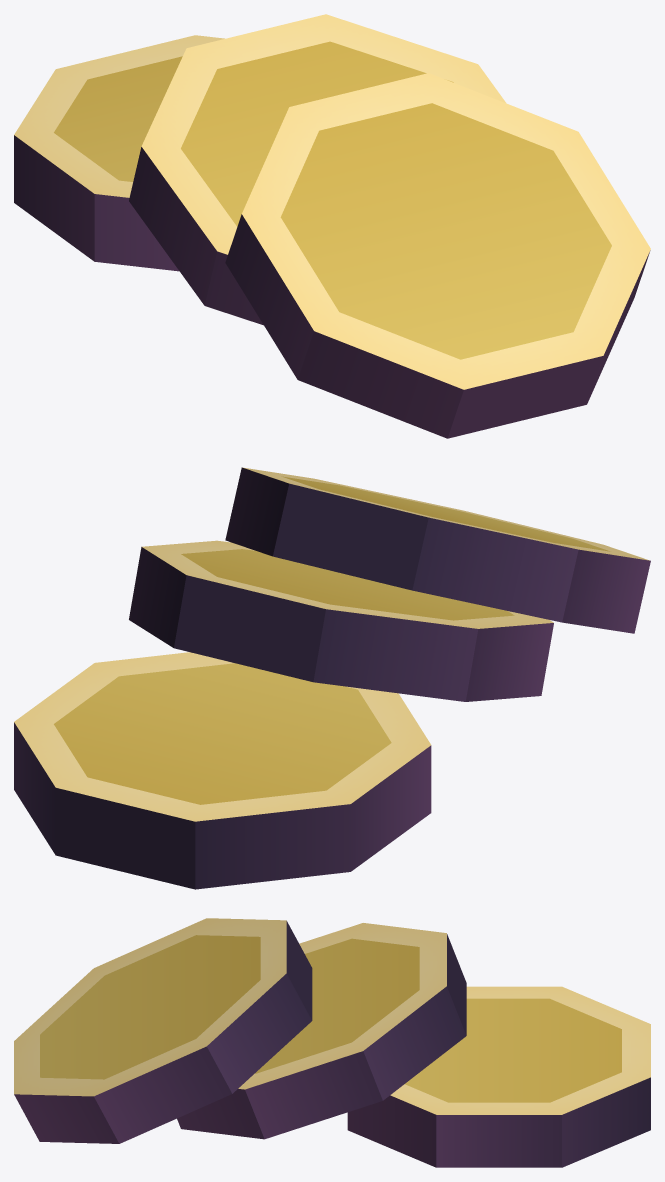
File: Passion Fruit Slice.fbx
3 renders of one model, top to bottom at view 1: azimuth 30°, elevation 25°; view 2: azimuth 150°, elevation 25°; view 3: azimuth 270°, elevation 25°, orthographic. The views are drawn at different scales.
Parts seen in each view (by area): view 1: Passion Fruit Slice.002, Passion Fruit Slice.001, Passion Fruit Slice; view 2: Passion Fruit Slice, Passion Fruit Slice.001, Passion Fruit Slice.002; view 3: Passion Fruit Slice.002, Passion Fruit Slice, Passion Fruit Slice.001.
Boxes of the visible parts, x1,y1,x2,y2 form: Passion Fruit Slice.002: (225,73,650,438); Passion Fruit Slice.001: (129,14,505,325); Passion Fruit Slice: (14,35,224,271); Passion Fruit Slice: (14,652,431,889); Passion Fruit Slice.001: (129,540,553,701); Passion Fruit Slice.002: (225,467,650,633); Passion Fruit Slice.002: (14,918,312,1143); Passion Fruit Slice: (347,986,650,1167); Passion Fruit Slice.001: (177,923,466,1139).
Size of the model in its own units: 7.31 by 4.48 by 15.34.
